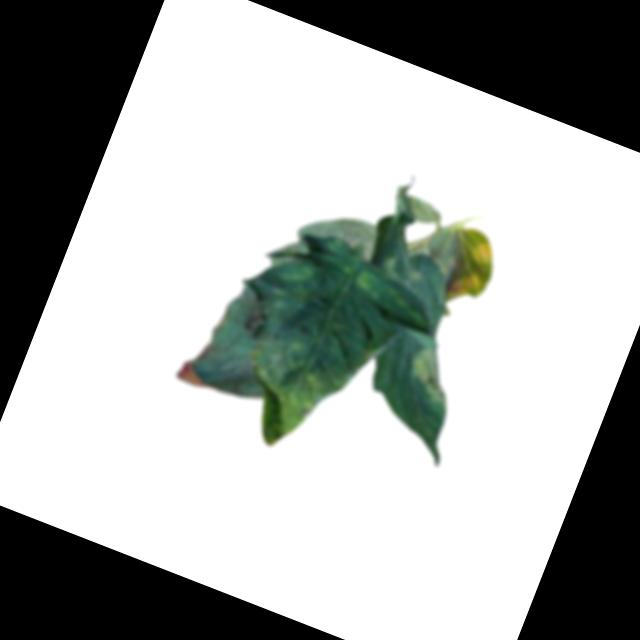Leaf_Mold: (438, 226, 505, 312), (398, 340, 464, 406), (318, 208, 391, 267), (220, 279, 283, 347)
